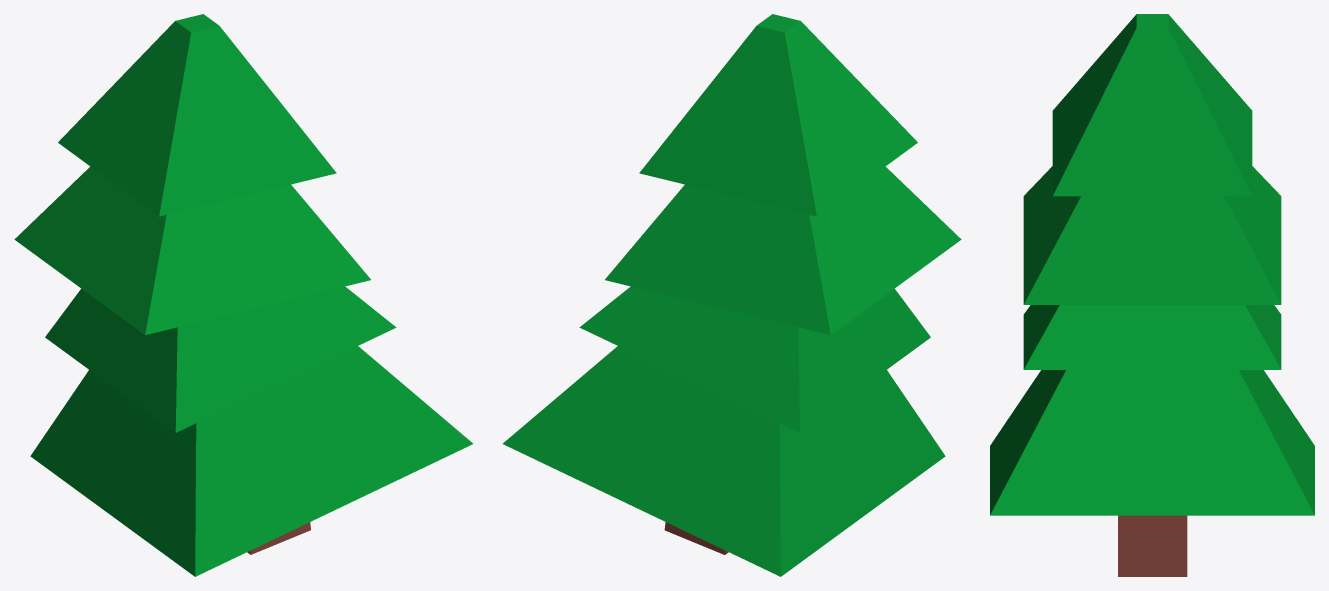
Rendered from Tree 3.fbx.
3 renders of one model, left to right at view 1: azimuth 30°, elevation 25°; view 2: azimuth 150°, elevation 25°; view 3: azimuth 270°, elevation 25°, orthographic.
Parts seen in each view (by area): view 1: Tree 3; view 2: Tree 3; view 3: Tree 3.
Boxes of the visible parts, x1,y1,x2,y2 form: Tree 3: [14, 14, 473, 576]; Tree 3: [502, 14, 961, 576]; Tree 3: [990, 14, 1314, 576].
Size of the model in its own units: 156 by 253 by 143.
Materials: 1 (1 with a texture image).
